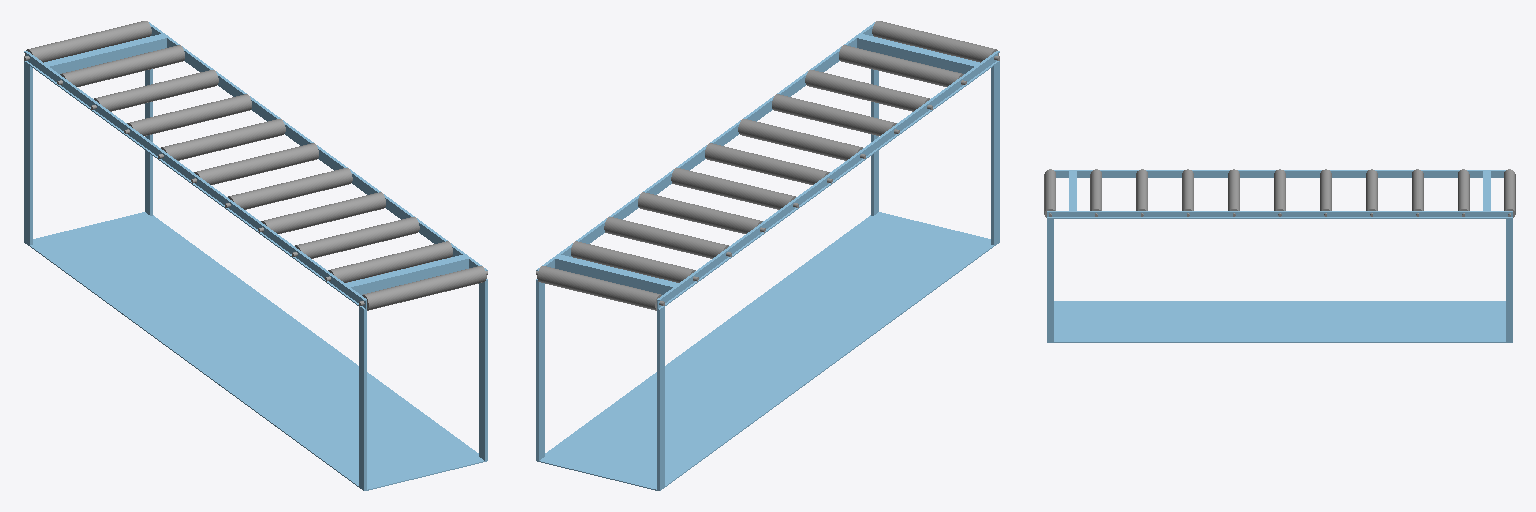
The robot description file, URDF, robot "onshape":
<robot name="onshape">
<link name="conveyor_base">
<visual>
<origin xyz="0 0 0.91940000000000010605" rpy="0 -0 0" />
<geometry>
<mesh filename="package://pendulum_sim/urdf/roller_conveyor//conveyor_base.stl"/>
</geometry>
<material name="conveyor_base_material">
<color rgba="0.61568627450980395466 0.81176470588235294379 0.92941176470588238168 1.0"/>
</material>
</visual>
<collision>
<origin xyz="0 0 0.91940000000000010605" rpy="0 -0 0" />
<geometry>
<mesh filename="package://pendulum_sim/urdf/roller_conveyor//conveyor_base.stl"/>
</geometry>
</collision>
<inertial>
<origin xyz="0 0 0" rpy="0 0 0"/>
<mass value="0" />
<inertia ixx="0" ixy="0"  ixz="0" iyy="0" iyz="0" izz="0" />
</inertial>
</link>

<link name="conveyor_roller">
<visual>
<origin xyz="-1.5 -1.1102230246251565404e-16 -0.3048000000000001819" rpy="-1.570796326794896558 -1.570796326794896558 0" />
<geometry>
<mesh filename="package://pendulum_sim/urdf/roller_conveyor//conveyor_roller.stl"/>
</geometry>
<material name="conveyor_roller_material">
<color rgba="0.64705882352941179736 0.64705882352941179736 0.64705882352941179736 1.0"/>
</material>
</visual>
<collision>
<origin xyz="-1.5 -1.1102230246251565404e-16 -0.3048000000000001819" rpy="-1.570796326794896558 -1.570796326794896558 0" />
<geometry>
<mesh filename="package://pendulum_sim/urdf/roller_conveyor//conveyor_roller.stl"/>
</geometry>
</collision>
<inertial>
<origin xyz="0 0 0" rpy="0 0 0"/>
<mass value="0" />
<inertia ixx="0" ixy="0"  ixz="0" iyy="0" iyz="0" izz="0" />
</inertial>
</link>

<joint name="roller_1" type="revolute">
<origin xyz="0.30480000000000012639 1.500000000000000222 0.91940000000000055014" rpy="1.570796326794896558 -0.79584190558026279838 1.570796326794896558" />
<parent link="conveyor_base" />
<child link="conveyor_roller" />
<axis xyz="0 0 1"/>
<limit effort="1" velocity="20" />
<joint_properties friction="0.0"/>
</joint>

<link name="conveyor_roller_2">
<visual>
<origin xyz="-1.5 0 -0.3048000000000001819" rpy="-1.570796326794896558 -1.570796326794896558 0" />
<geometry>
<mesh filename="package://pendulum_sim/urdf/roller_conveyor//conveyor_roller.stl"/>
</geometry>
<material name="conveyor_roller_material">
<color rgba="0.64705882352941179736 0.64705882352941179736 0.64705882352941179736 1.0"/>
</material>
</visual>
<collision>
<origin xyz="-1.5 0 -0.3048000000000001819" rpy="-1.570796326794896558 -1.570796326794896558 0" />
<geometry>
<mesh filename="package://pendulum_sim/urdf/roller_conveyor//conveyor_roller.stl"/>
</geometry>
</collision>
<inertial>
<origin xyz="0 0 0" rpy="0 0 0"/>
<mass value="0" />
<inertia ixx="0" ixy="0"  ixz="0" iyy="0" iyz="0" izz="0" />
</inertial>
</link>

<joint name="roller_2" type="revolute">
<origin xyz="0.3048000000000001819 1.1999999999999999556 0.91940000000000010605" rpy="1.570796326794896558 -0 1.570796326794896558" />
<parent link="conveyor_base" />
<child link="conveyor_roller_2" />
<axis xyz="0 0 1"/>
<limit effort="1" velocity="20" />
<joint_properties friction="0.0"/>
</joint>

<link name="conveyor_roller_3">
<visual>
<origin xyz="-1.5 0 -0.3048000000000001819" rpy="-1.570796326794896558 -1.570796326794896558 0" />
<geometry>
<mesh filename="package://pendulum_sim/urdf/roller_conveyor//conveyor_roller.stl"/>
</geometry>
<material name="conveyor_roller_material">
<color rgba="0.64705882352941179736 0.64705882352941179736 0.64705882352941179736 1.0"/>
</material>
</visual>
<collision>
<origin xyz="-1.5 0 -0.3048000000000001819" rpy="-1.570796326794896558 -1.570796326794896558 0" />
<geometry>
<mesh filename="package://pendulum_sim/urdf/roller_conveyor//conveyor_roller.stl"/>
</geometry>
</collision>
<inertial>
<origin xyz="0 0 0" rpy="0 0 0"/>
<mass value="0" />
<inertia ixx="0" ixy="0"  ixz="0" iyy="0" iyz="0" izz="0" />
</inertial>
</link>

<joint name="roller_3" type="revolute">
<origin xyz="0.3048000000000001819 0.89999999999999991118 0.91940000000000010605" rpy="1.570796326794896558 -0 1.570796326794896558" />
<parent link="conveyor_base" />
<child link="conveyor_roller_3" />
<axis xyz="0 0 1"/>
<limit effort="1" velocity="20" />
<joint_properties friction="0.0"/>
</joint>

<link name="conveyor_roller_4">
<visual>
<origin xyz="-1.5 0 -0.3048000000000001819" rpy="-1.570796326794896558 -1.570796326794896558 0" />
<geometry>
<mesh filename="package://pendulum_sim/urdf/roller_conveyor//conveyor_roller.stl"/>
</geometry>
<material name="conveyor_roller_material">
<color rgba="0.64705882352941179736 0.64705882352941179736 0.64705882352941179736 1.0"/>
</material>
</visual>
<collision>
<origin xyz="-1.5 0 -0.3048000000000001819" rpy="-1.570796326794896558 -1.570796326794896558 0" />
<geometry>
<mesh filename="package://pendulum_sim/urdf/roller_conveyor//conveyor_roller.stl"/>
</geometry>
</collision>
<inertial>
<origin xyz="0 0 0" rpy="0 0 0"/>
<mass value="0" />
<inertia ixx="0" ixy="0"  ixz="0" iyy="0" iyz="0" izz="0" />
</inertial>
</link>

<joint name="roller_4" type="revolute">
<origin xyz="0.3048000000000001819 0.5999999999999999778 0.91940000000000010605" rpy="1.570796326794896558 -0 1.570796326794896558" />
<parent link="conveyor_base" />
<child link="conveyor_roller_4" />
<axis xyz="0 0 1"/>
<limit effort="1" velocity="20" />
<joint_properties friction="0.0"/>
</joint>

<link name="conveyor_roller_5">
<visual>
<origin xyz="-1.5 0 -0.3048000000000001819" rpy="-1.570796326794896558 -1.570796326794896558 0" />
<geometry>
<mesh filename="package://pendulum_sim/urdf/roller_conveyor//conveyor_roller.stl"/>
</geometry>
<material name="conveyor_roller_material">
<color rgba="0.64705882352941179736 0.64705882352941179736 0.64705882352941179736 1.0"/>
</material>
</visual>
<collision>
<origin xyz="-1.5 0 -0.3048000000000001819" rpy="-1.570796326794896558 -1.570796326794896558 0" />
<geometry>
<mesh filename="package://pendulum_sim/urdf/roller_conveyor//conveyor_roller.stl"/>
</geometry>
</collision>
<inertial>
<origin xyz="0 0 0" rpy="0 0 0"/>
<mass value="0" />
<inertia ixx="0" ixy="0"  ixz="0" iyy="0" iyz="0" izz="0" />
</inertial>
</link>

<joint name="roller_5" type="revolute">
<origin xyz="0.3048000000000001819 0.30000000000000004441 0.91940000000000010605" rpy="1.570796326794896558 -0 1.570796326794896558" />
<parent link="conveyor_base" />
<child link="conveyor_roller_5" />
<axis xyz="0 0 1"/>
<limit effort="1" velocity="20" />
<joint_properties friction="0.0"/>
</joint>

<link name="conveyor_roller_6">
<visual>
<origin xyz="-1.5 0 -0.3048000000000001819" rpy="-1.570796326794896558 -1.570796326794896558 0" />
<geometry>
<mesh filename="package://pendulum_sim/urdf/roller_conveyor//conveyor_roller.stl"/>
</geometry>
<material name="conveyor_roller_material">
<color rgba="0.64705882352941179736 0.64705882352941179736 0.64705882352941179736 1.0"/>
</material>
</visual>
<collision>
<origin xyz="-1.5 0 -0.3048000000000001819" rpy="-1.570796326794896558 -1.570796326794896558 0" />
<geometry>
<mesh filename="package://pendulum_sim/urdf/roller_conveyor//conveyor_roller.stl"/>
</geometry>
</collision>
<inertial>
<origin xyz="0 0 0" rpy="0 0 0"/>
<mass value="0" />
<inertia ixx="0" ixy="0"  ixz="0" iyy="0" iyz="0" izz="0" />
</inertial>
</link>

<joint name="roller_6" type="revolute">
<origin xyz="0.3048000000000001819 0 0.91940000000000010605" rpy="1.570796326794896558 -0 1.570796326794896558" />
<parent link="conveyor_base" />
<child link="conveyor_roller_6" />
<axis xyz="0 0 1"/>
<limit effort="1" velocity="20" lower="0" upper="0"/>
<joint_properties friction="0.0"/>
</joint>

<link name="conveyor_roller_7">
<visual>
<origin xyz="-1.5 0 -0.3048000000000001819" rpy="-1.570796326794896558 -1.570796326794896558 0" />
<geometry>
<mesh filename="package://pendulum_sim/urdf/roller_conveyor//conveyor_roller.stl"/>
</geometry>
<material name="conveyor_roller_material">
<color rgba="0.64705882352941179736 0.64705882352941179736 0.64705882352941179736 1.0"/>
</material>
</visual>
<collision>
<origin xyz="-1.5 0 -0.3048000000000001819" rpy="-1.570796326794896558 -1.570796326794896558 0" />
<geometry>
<mesh filename="package://pendulum_sim/urdf/roller_conveyor//conveyor_roller.stl"/>
</geometry>
</collision>
<inertial>
<origin xyz="0 0 0" rpy="0 0 0"/>
<mass value="0" />
<inertia ixx="0" ixy="0"  ixz="0" iyy="0" iyz="0" izz="0" />
</inertial>
</link>

<joint name="roller_7" type="revolute">
<origin xyz="0.3048000000000001819 -0.30000000000000004441 0.91940000000000010605" rpy="1.570796326794896558 -0 1.570796326794896558" />
<parent link="conveyor_base" />
<child link="conveyor_roller_7" />
<axis xyz="0 0 1"/>
<limit effort="1" velocity="20" />
<joint_properties friction="0.0"/>
</joint>

<link name="conveyor_roller_8">
<visual>
<origin xyz="-1.5 0 -0.3048000000000001819" rpy="-1.570796326794896558 -1.570796326794896558 0" />
<geometry>
<mesh filename="package://pendulum_sim/urdf/roller_conveyor//conveyor_roller.stl"/>
</geometry>
<material name="conveyor_roller_material">
<color rgba="0.64705882352941179736 0.64705882352941179736 0.64705882352941179736 1.0"/>
</material>
</visual>
<collision>
<origin xyz="-1.5 0 -0.3048000000000001819" rpy="-1.570796326794896558 -1.570796326794896558 0" />
<geometry>
<mesh filename="package://pendulum_sim/urdf/roller_conveyor//conveyor_roller.stl"/>
</geometry>
</collision>
<inertial>
<origin xyz="0 0 0" rpy="0 0 0"/>
<mass value="0" />
<inertia ixx="0" ixy="0"  ixz="0" iyy="0" iyz="0" izz="0" />
</inertial>
</link>

<joint name="roller_8" type="revolute">
<origin xyz="0.3048000000000001819 -0.60000000000000008882 0.91940000000000010605" rpy="1.570796326794896558 -0 1.570796326794896558" />
<parent link="conveyor_base" />
<child link="conveyor_roller_8" />
<axis xyz="0 0 1"/>
<limit effort="1" velocity="20" />
<joint_properties friction="0.0"/>
</joint>

<link name="conveyor_roller_9">
<visual>
<origin xyz="-1.5 0 -0.3048000000000001819" rpy="-1.570796326794896558 -1.570796326794896558 0" />
<geometry>
<mesh filename="package://pendulum_sim/urdf/roller_conveyor//conveyor_roller.stl"/>
</geometry>
<material name="conveyor_roller_material">
<color rgba="0.64705882352941179736 0.64705882352941179736 0.64705882352941179736 1.0"/>
</material>
</visual>
<collision>
<origin xyz="-1.5 0 -0.3048000000000001819" rpy="-1.570796326794896558 -1.570796326794896558 0" />
<geometry>
<mesh filename="package://pendulum_sim/urdf/roller_conveyor//conveyor_roller.stl"/>
</geometry>
</collision>
<inertial>
<origin xyz="0 0 0" rpy="0 0 0"/>
<mass value="0" />
<inertia ixx="0" ixy="0"  ixz="0" iyy="0" iyz="0" izz="0" />
</inertial>
</link>

<joint name="roller_9" type="revolute">
<origin xyz="0.3048000000000001819 -0.89999999999999991118 0.91940000000000010605" rpy="1.570796326794896558 -0 1.570796326794896558" />
<parent link="conveyor_base" />
<child link="conveyor_roller_9" />
<axis xyz="0 0 1"/>
<limit effort="1" velocity="20" />
<joint_properties friction="0.0"/>
</joint>

<link name="conveyor_roller_10">
<visual>
<origin xyz="-1.5 0 -0.3048000000000001819" rpy="-1.570796326794896558 -1.570796326794896558 0" />
<geometry>
<mesh filename="package://pendulum_sim/urdf/roller_conveyor//conveyor_roller.stl"/>
</geometry>
<material name="conveyor_roller_material">
<color rgba="0.64705882352941179736 0.64705882352941179736 0.64705882352941179736 1.0"/>
</material>
</visual>
<collision>
<origin xyz="-1.5 0 -0.3048000000000001819" rpy="-1.570796326794896558 -1.570796326794896558 0" />
<geometry>
<mesh filename="package://pendulum_sim/urdf/roller_conveyor//conveyor_roller.stl"/>
</geometry>
</collision>
<inertial>
<origin xyz="0 0 0" rpy="0 0 0"/>
<mass value="0" />
<inertia ixx="0" ixy="0"  ixz="0" iyy="0" iyz="0" izz="0" />
</inertial>
</link>

<joint name="roller_10" type="revolute">
<origin xyz="0.3048000000000001819 -1.2000000000000001776 0.91940000000000010605" rpy="1.570796326794896558 -0 1.570796326794896558" />
<parent link="conveyor_base" />
<child link="conveyor_roller_10" />
<axis xyz="0 0 1"/>
<limit effort="1" velocity="20" />
<joint_properties friction="0.0"/>
</joint>

<link name="conveyor_roller_11">
<visual>
<origin xyz="-1.5 0 -0.3048000000000001819" rpy="-1.570796326794896558 -1.570796326794896558 0" />
<geometry>
<mesh filename="package://pendulum_sim/urdf/roller_conveyor//conveyor_roller.stl"/>
</geometry>
<material name="conveyor_roller_material">
<color rgba="0.64705882352941179736 0.64705882352941179736 0.64705882352941179736 1.0"/>
</material>
</visual>
<collision>
<origin xyz="-1.5 0 -0.3048000000000001819" rpy="-1.570796326794896558 -1.570796326794896558 0" />
<geometry>
<mesh filename="package://pendulum_sim/urdf/roller_conveyor//conveyor_roller.stl"/>
</geometry>
</collision>
<inertial>
<origin xyz="0 0 0" rpy="0 0 0"/>
<mass value="0" />
<inertia ixx="0" ixy="0"  ixz="0" iyy="0" iyz="0" izz="0" />
</inertial>
</link>

<joint name="roller_11" type="revolute">
<origin xyz="0.3048000000000001819 -1.5 0.91940000000000010605" rpy="1.570796326794896558 -0 1.570796326794896558" />
<parent link="conveyor_base" />
<child link="conveyor_roller_11" />
<axis xyz="0 0 1"/>
<limit effort="1" velocity="20" />
<joint_properties friction="0.0"/>
</joint>


</robot>

--- What the picture shows (computed from the rendered views, not written in the file) ---
3 views of the same robot in one strip: view 1: azimuth 30°, elevation 25°; view 2: azimuth 150°, elevation 25°; view 3: azimuth 270°, elevation 25° (orthographic).
Robot: onshape — 12 links, 11 joints (11 revolute); root link conveyor_base; default pose: all joints at 0.
Links seen in each view (by area): view 1: conveyor_base, conveyor_roller_11, conveyor_roller_3, conveyor_roller_5, conveyor_roller_6, conveyor_roller_8, conveyor_roller_2, conveyor_roller_7, conveyor_roller_9, conveyor_roller_4, conveyor_roller, conveyor_roller_10; view 2: conveyor_base, conveyor_roller, conveyor_roller_7, conveyor_roller_5, conveyor_roller_3, conveyor_roller_4, conveyor_roller_6, conveyor_roller_9, conveyor_roller_10, conveyor_roller_8, conveyor_roller_11, conveyor_roller_2; view 3: conveyor_base.
Boxes of the visible links, bbox=[...] form: conveyor_base: bbox=[24, 22, 487, 490]; conveyor_roller_11: bbox=[359, 266, 487, 310]; conveyor_roller_3: bbox=[91, 70, 218, 111]; conveyor_roller_5: bbox=[158, 119, 285, 160]; conveyor_roller_6: bbox=[191, 143, 318, 184]; conveyor_roller_8: bbox=[258, 192, 385, 233]; conveyor_roller_2: bbox=[57, 45, 184, 86]; conveyor_roller_7: bbox=[225, 168, 352, 209]; conveyor_roller_9: bbox=[292, 217, 419, 258]; conveyor_roller_4: bbox=[124, 94, 251, 135]; conveyor_roller: bbox=[24, 21, 151, 62]; conveyor_roller_10: bbox=[325, 241, 452, 282]; conveyor_base: bbox=[536, 22, 999, 490]; conveyor_roller: bbox=[536, 266, 664, 310]; conveyor_roller_7: bbox=[738, 119, 865, 160]; conveyor_roller_5: bbox=[671, 168, 798, 209]; conveyor_roller_3: bbox=[604, 217, 731, 258]; conveyor_roller_4: bbox=[638, 192, 765, 233]; conveyor_roller_6: bbox=[705, 143, 832, 184]; conveyor_roller_9: bbox=[805, 70, 932, 111]; conveyor_roller_10: bbox=[839, 45, 966, 86]; conveyor_roller_8: bbox=[772, 94, 899, 135]; conveyor_roller_11: bbox=[872, 21, 999, 62]; conveyor_roller_2: bbox=[571, 241, 698, 282]; conveyor_base: bbox=[1047, 170, 1512, 342].
Bounding box of the posed robot: 0.6596 × 3.08 × 0.9575 m (x, y, z).
12 mesh visuals loaded from 2 distinct referenced files (2 binary STL).